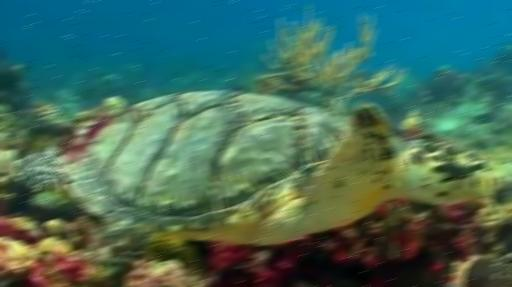Fish: (13, 92, 496, 243)
